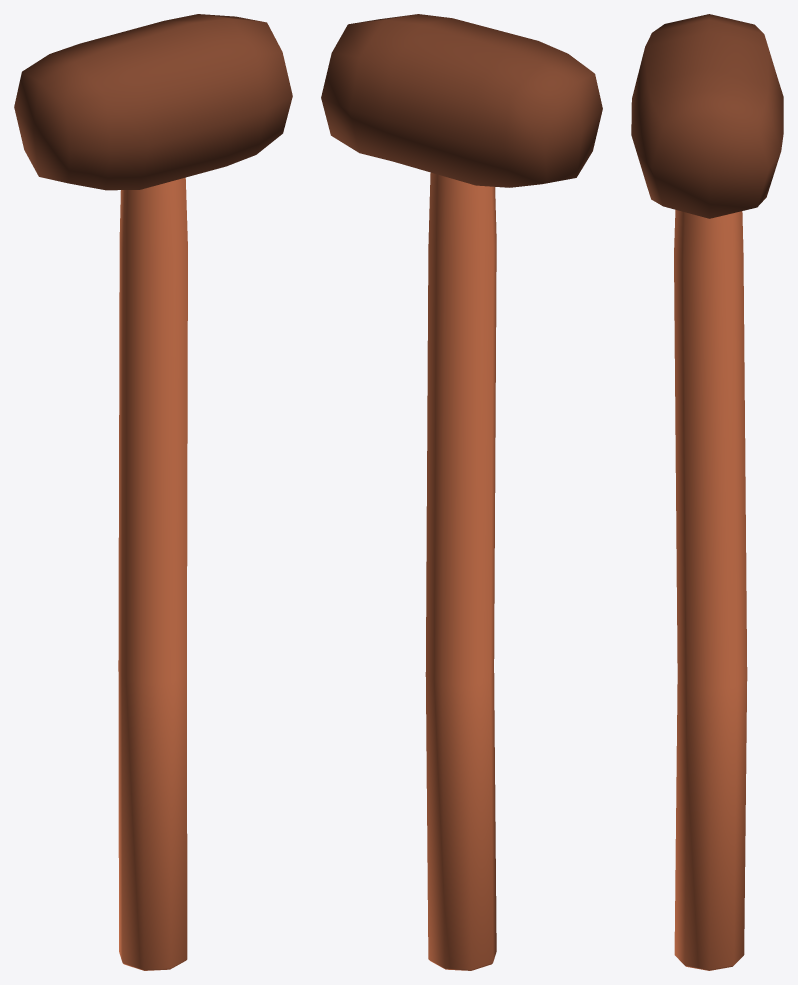
The model's file is Stone_Hammer.fbx.
The picture shows the model from 3 angles, left to right: view 1: azimuth 30°, elevation 25°; view 2: azimuth 150°, elevation 25°; view 3: azimuth 270°, elevation 25°; orthographic projection.
Visible parts, largest first — view 1: Stone_Hammer; view 2: Stone_Hammer; view 3: Stone_Hammer.
Part boxes in pixels (x1,y1,x2,y2): Stone_Hammer: (14, 14, 292, 970); Stone_Hammer: (321, 14, 602, 970); Stone_Hammer: (631, 14, 783, 970).
Size of the model in its own units: 0.1413 by 0.52 by 0.0787.
